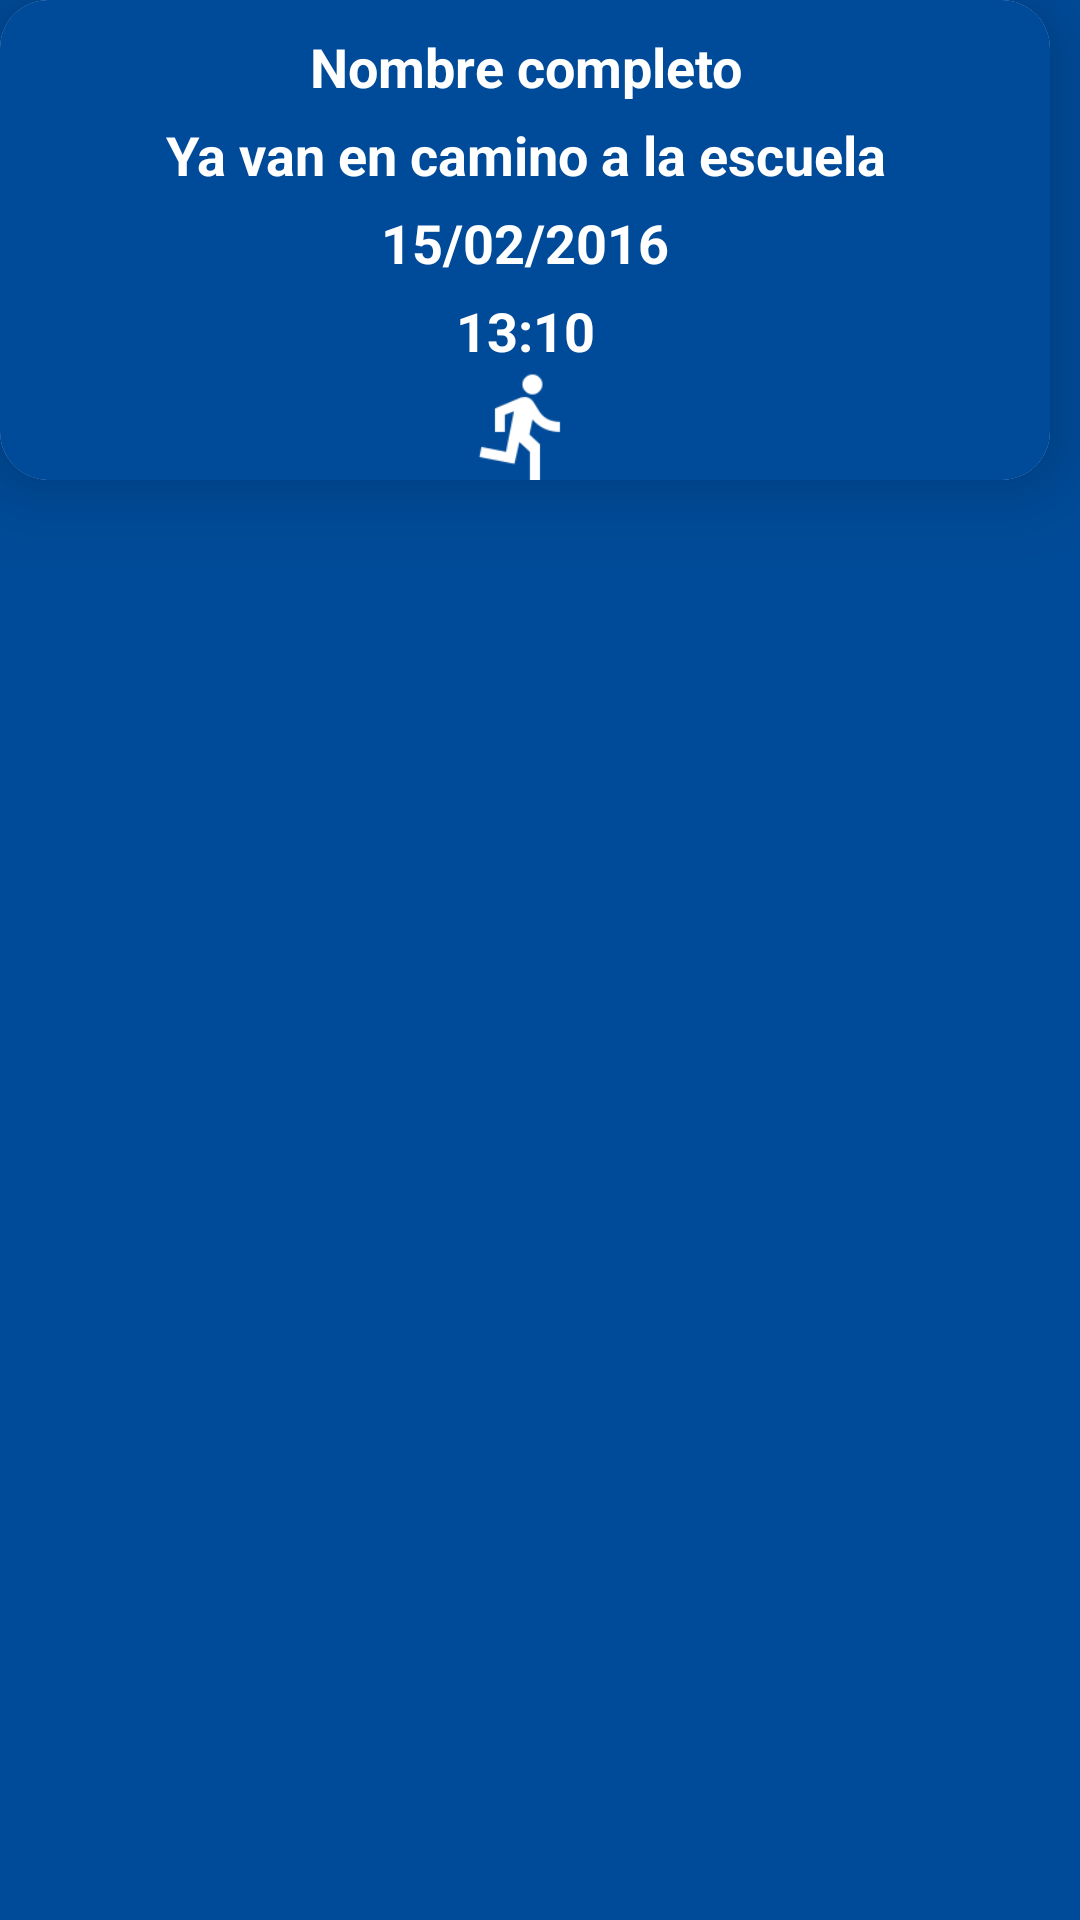

Icon bounding boxes for this 1080px×1920px phone screenshot, format (x1, y1, x2, y2):
run: (479, 374, 560, 480)
